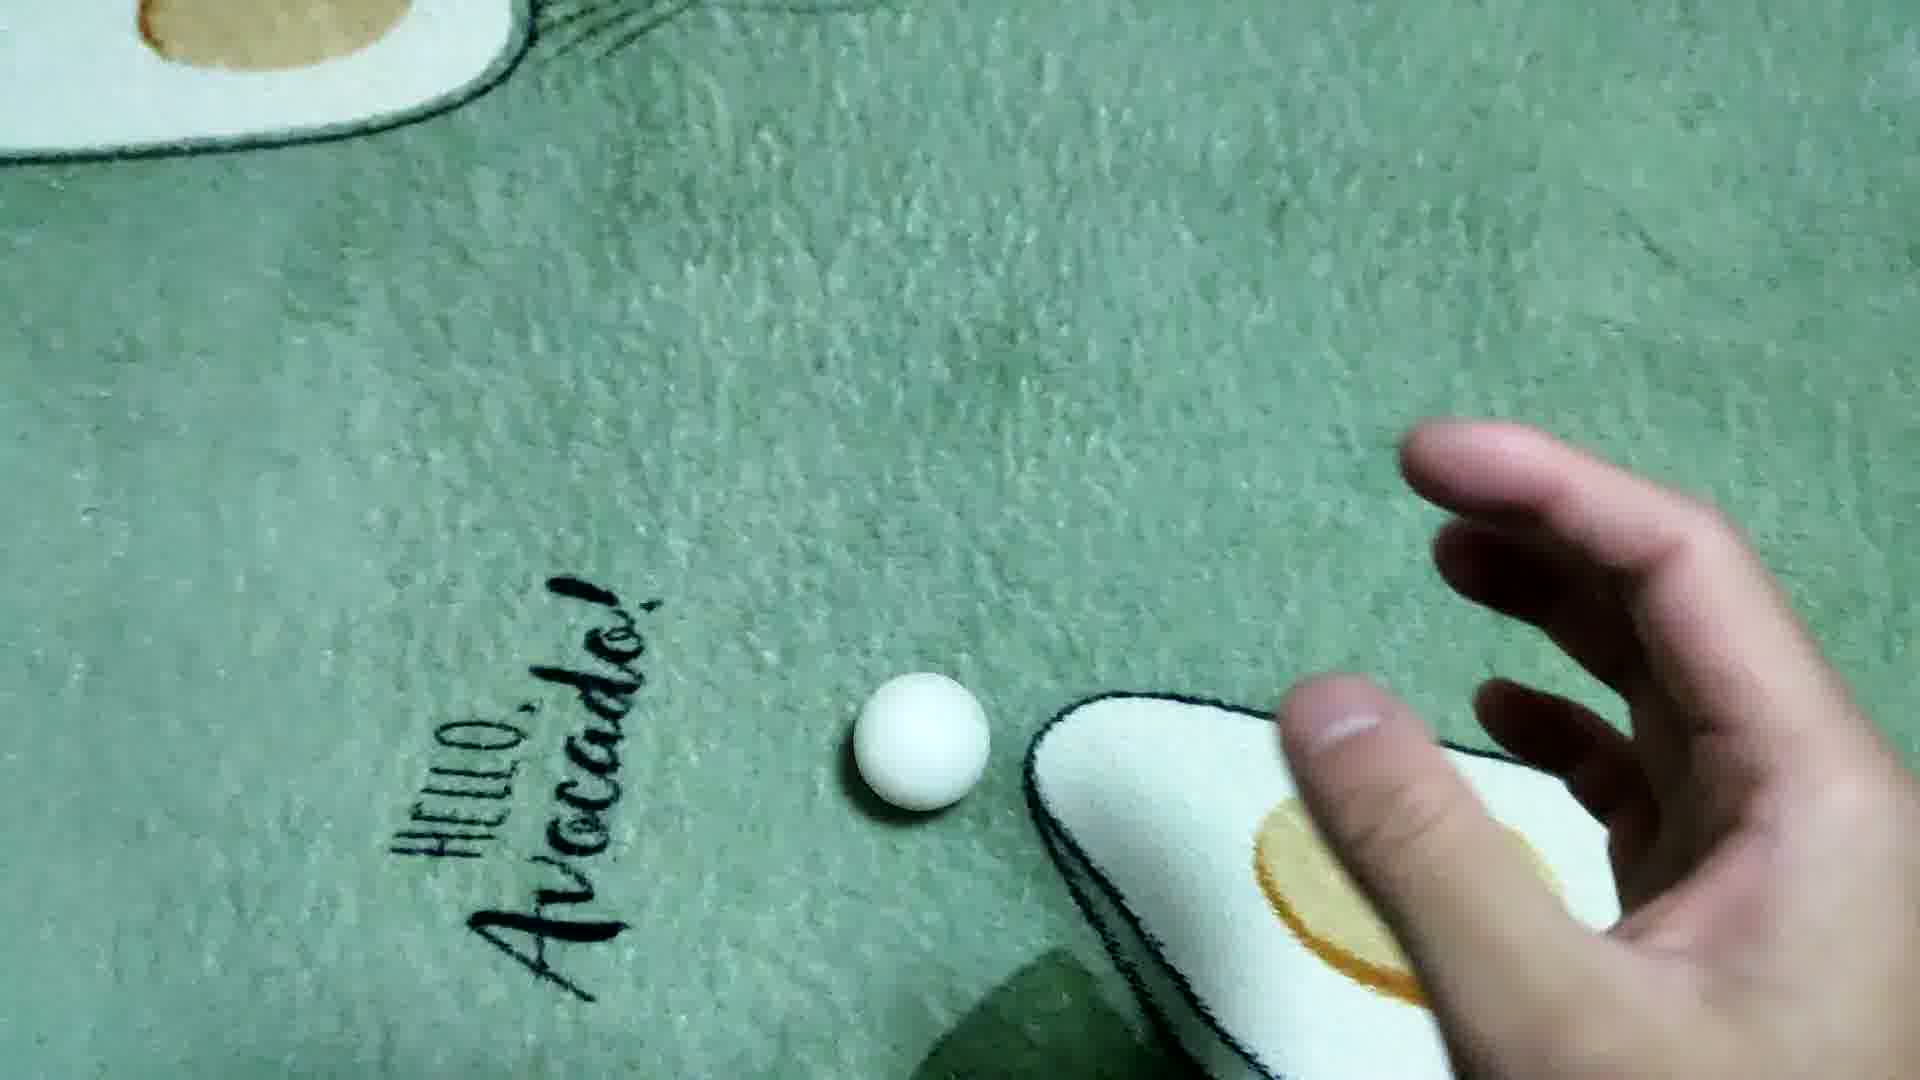Ball: (847, 674, 993, 808)
